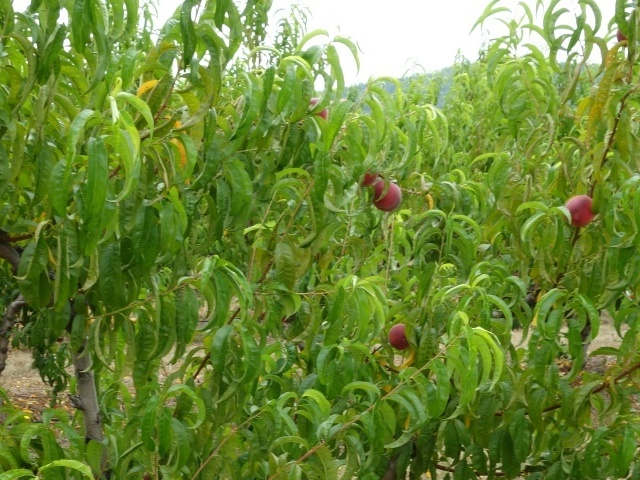peach: (560, 189, 601, 230), (369, 178, 407, 216), (383, 322, 415, 354), (306, 94, 334, 123)
